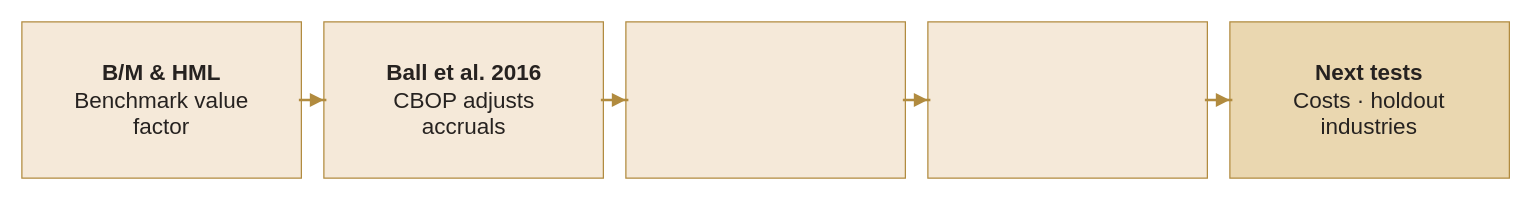
This 1531x200 diagram has some shape labels left out. Each missing label, with the box of its shape:
Duong 2025 UK application & factor tests: (927, 21, 1207, 178)
Wang 2024 US CBOP / price strategy: (625, 21, 905, 178)
